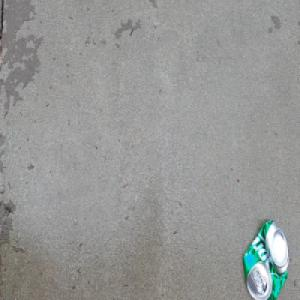SodaCan: (242, 219, 290, 300)
